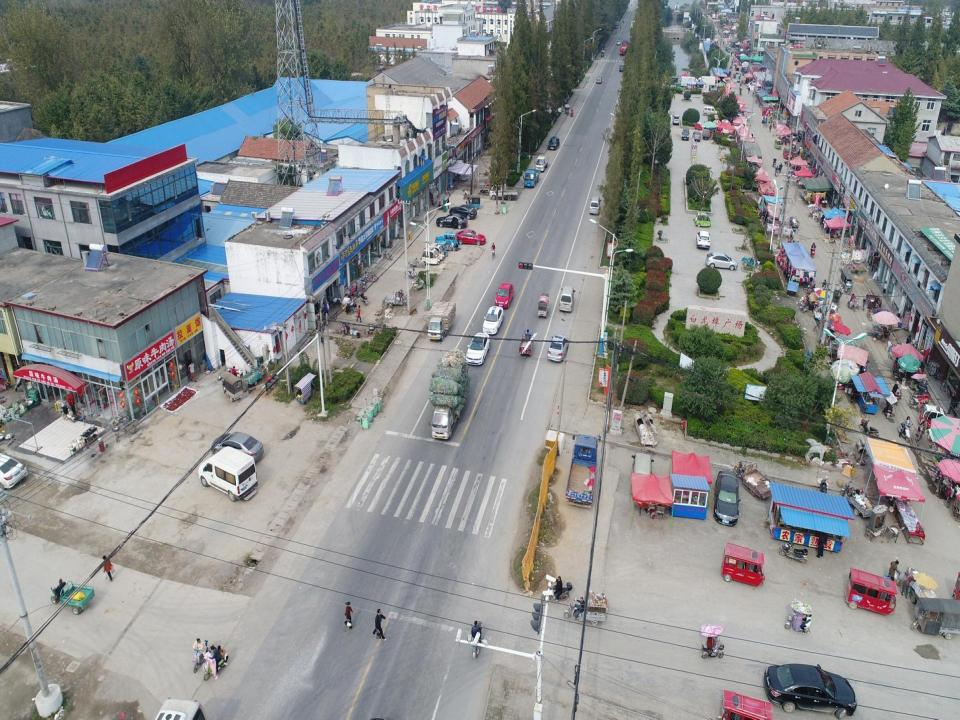car: (764, 664, 858, 720), (196, 448, 257, 500), (212, 430, 264, 466), (713, 466, 740, 526), (463, 331, 491, 367), (547, 333, 570, 365), (481, 306, 504, 335), (706, 251, 738, 271), (494, 280, 514, 310), (453, 228, 486, 246), (436, 213, 468, 230), (450, 204, 478, 221), (377, 212, 401, 231), (695, 230, 710, 250), (547, 136, 559, 150), (693, 130, 702, 142), (681, 128, 689, 140), (594, 75, 602, 84), (619, 64, 626, 71), (616, 39, 621, 45)
truck: (564, 426, 601, 510), (428, 366, 466, 440), (426, 300, 453, 341), (488, 182, 519, 200), (522, 166, 541, 189), (533, 155, 550, 173), (619, 39, 629, 55), (702, 84, 710, 96)
van: (628, 448, 656, 502), (559, 283, 577, 313), (588, 195, 602, 216), (702, 104, 718, 116), (671, 114, 680, 126)
